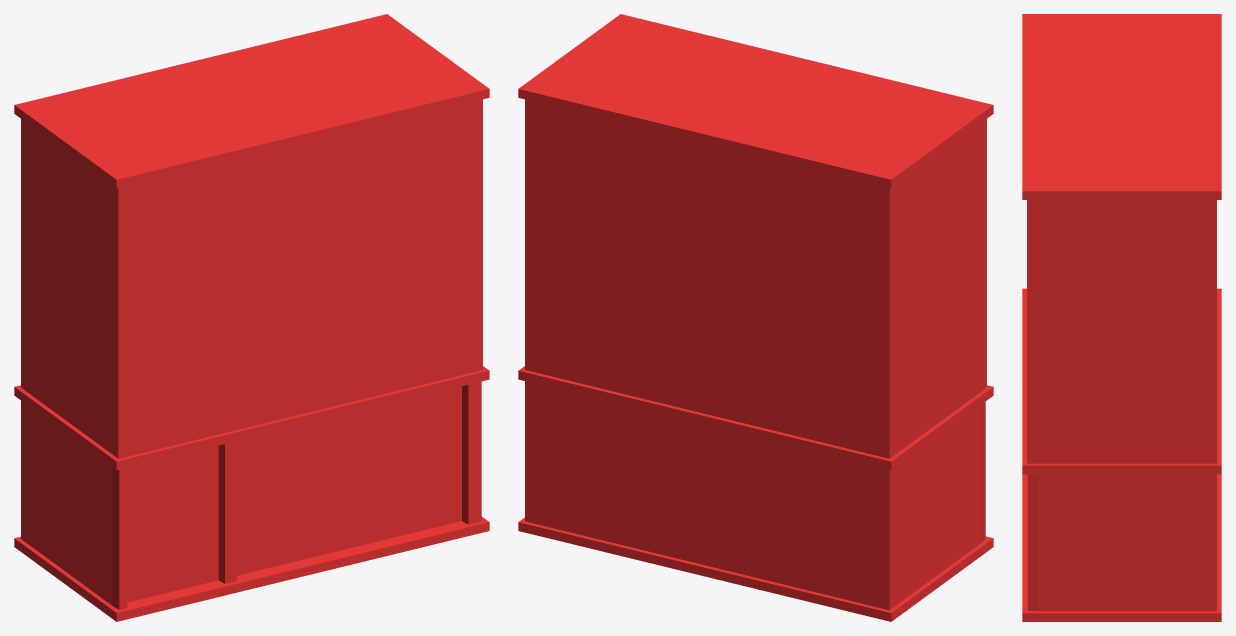
The model's file is Building_Big 4.fbx.
The picture shows the model from 3 angles, left to right: view 1: azimuth 30°, elevation 25°; view 2: azimuth 150°, elevation 25°; view 3: azimuth 270°, elevation 25°; orthographic projection. The views are drawn at different scales.
Visible parts, largest first — view 1: Box179; view 2: Box179; view 3: Box179.
Boxes of the visible parts, bbox=[...] form: Box179: bbox=[14, 14, 489, 621]; Box179: bbox=[518, 14, 993, 621]; Box179: bbox=[1022, 14, 1221, 621].
Size of the model in its own units: 206 by 234 by 97.99.
